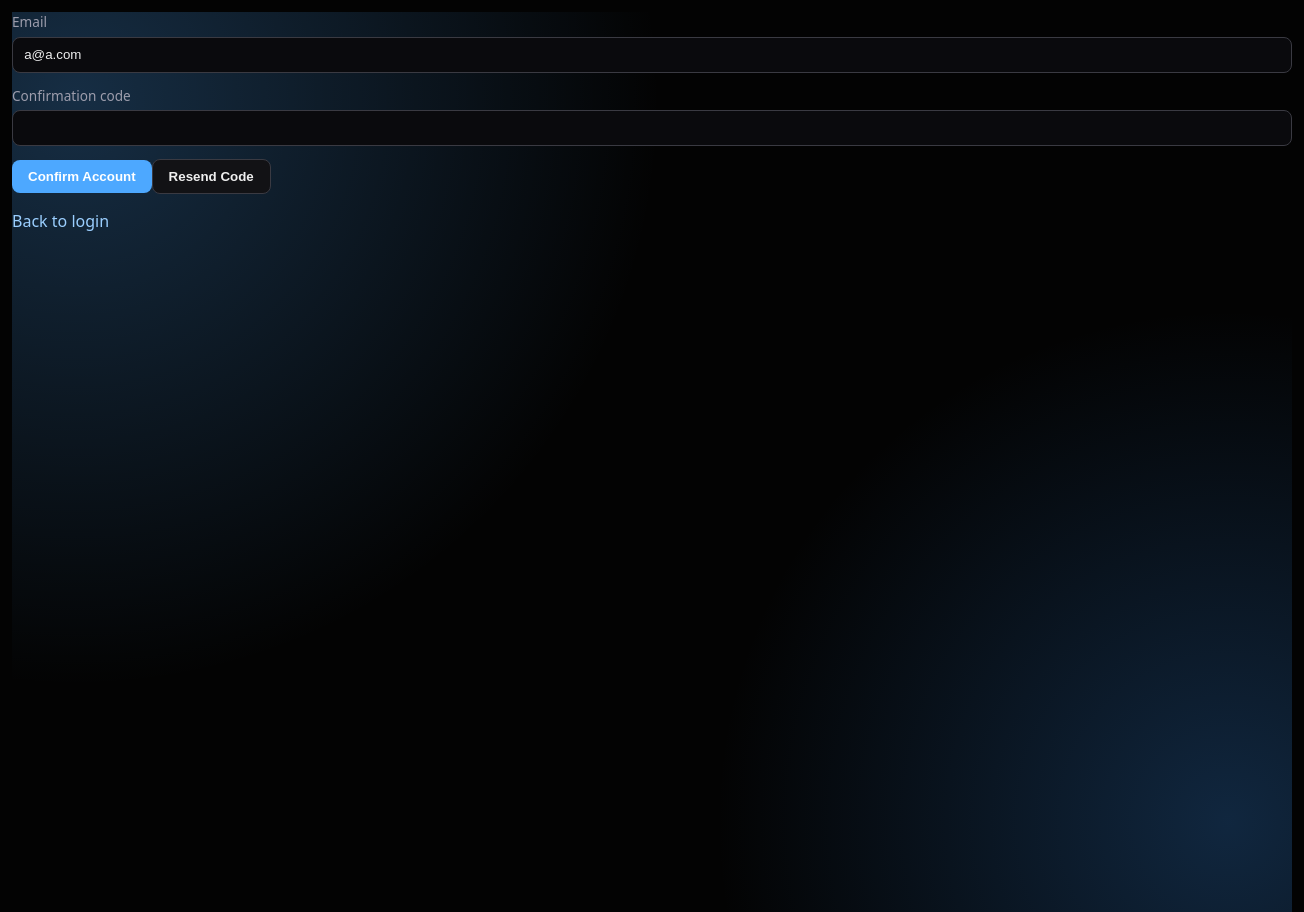
ConfirmSignUpForm › resends confirmation code
What coordinates should you click on to do the following:
click the button "Resend Code"
I would click on:
 (211, 176)
Its box is x1=152 y1=159 x2=271 y2=194.
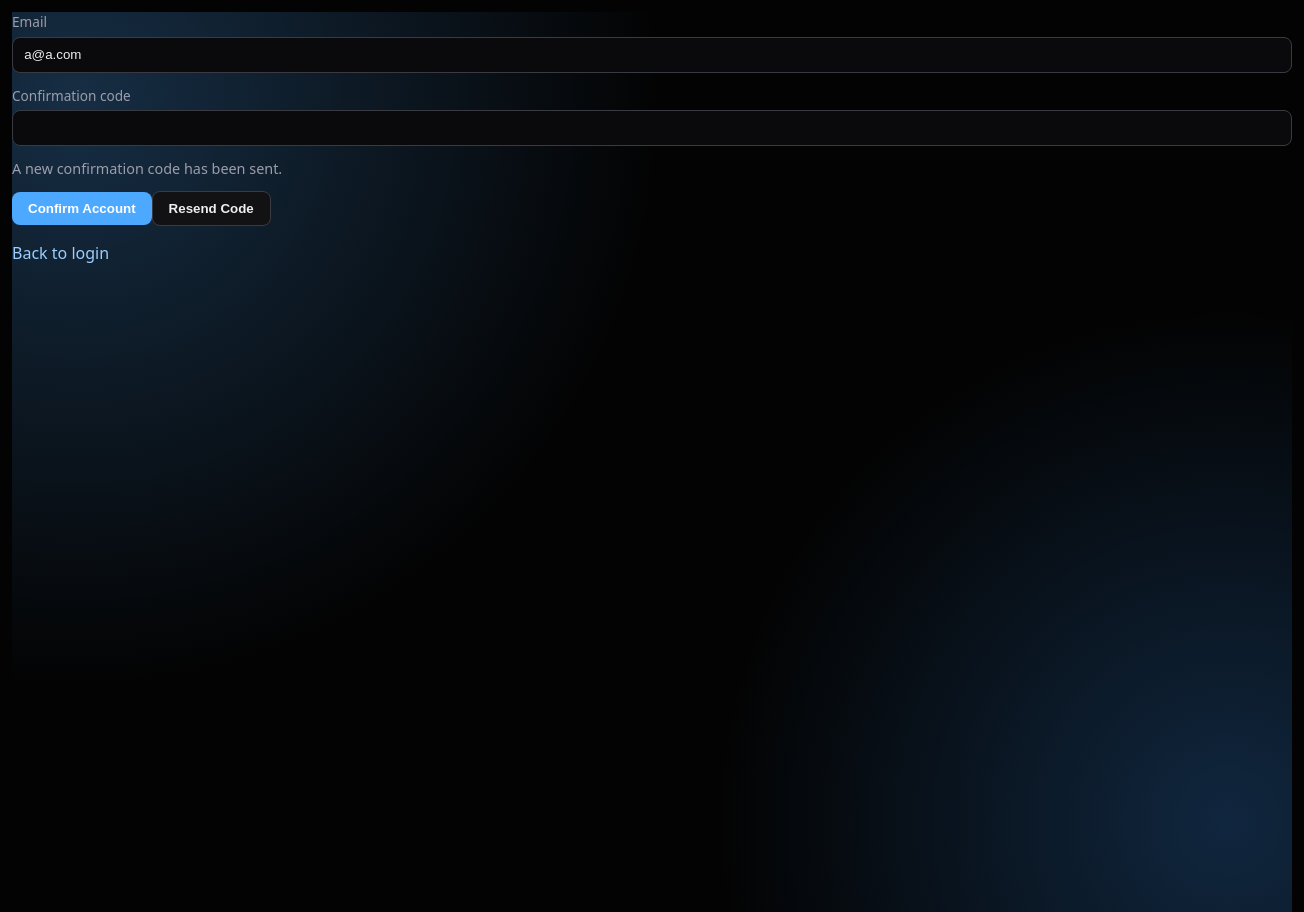
Now the text "A new confirmation code has been sent." is shown, box x1=12 y1=159 x2=282 y2=178
